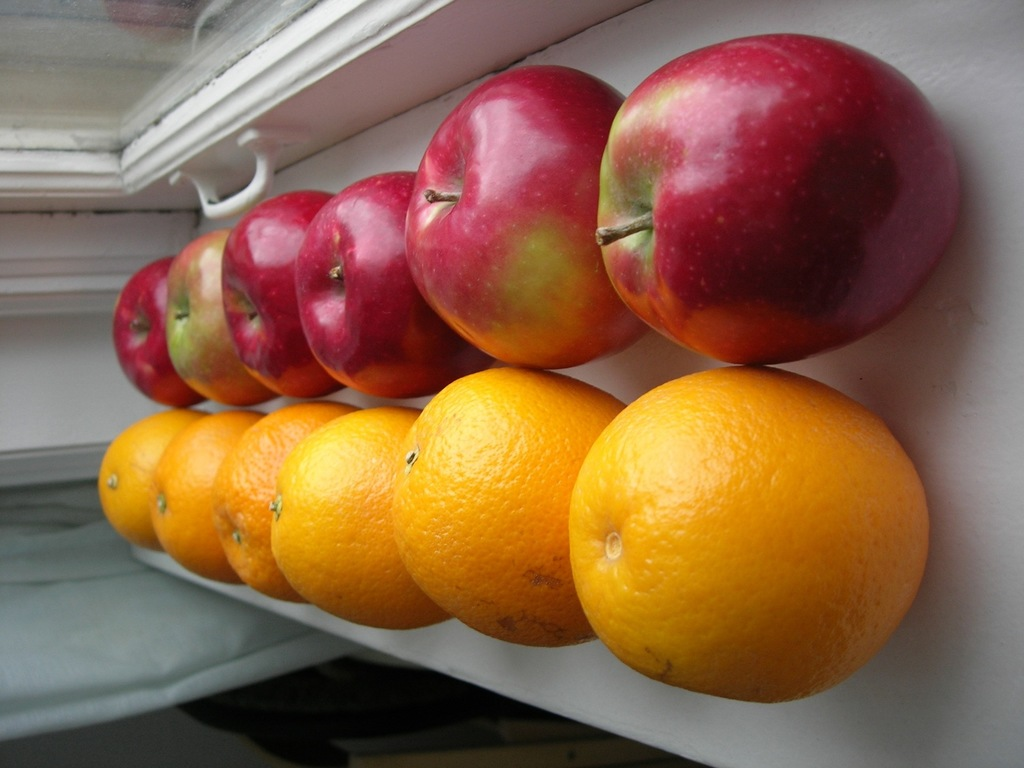Apple: (591, 30, 936, 373), (398, 66, 648, 371), (289, 173, 491, 403), (213, 188, 347, 399), (163, 227, 277, 410), (110, 254, 208, 410)
